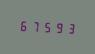five: (40, 19, 50, 34)
nine: (51, 20, 61, 34)
seven: (29, 19, 39, 33)
six: (18, 18, 28, 32)
three: (62, 20, 72, 35)
